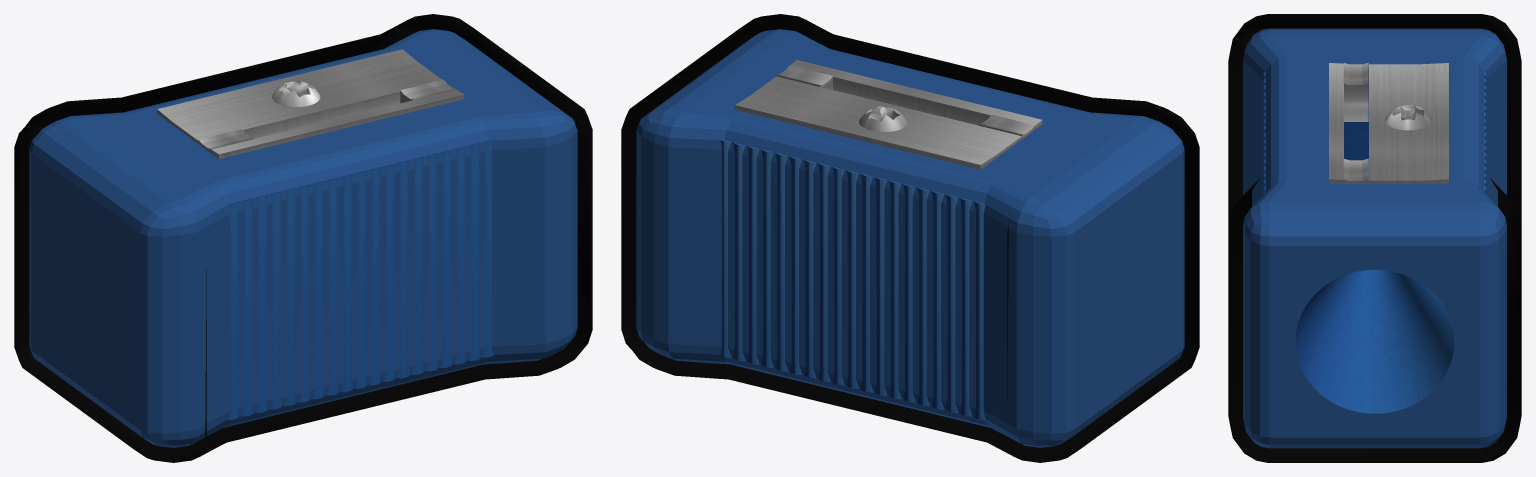
Rendered from sharpner.glb.
3 views of the same model, side by side, from view 1: azimuth 30°, elevation 25°; view 2: azimuth 150°, elevation 25°; view 3: azimuth 270°, elevation 25° (orthographic). The views are drawn at different scales.
Visible parts, largest first — view 1: Roundcube.001, Roundcube.002; view 2: Roundcube.001, Roundcube.002; view 3: Roundcube.001, Roundcube.002.
Boxes of the visible parts, x1=… form: Roundcube.001: x1=29, y1=29, x2=577, y2=447; Roundcube.002: x1=14, y1=14, x2=592, y2=462; Roundcube.001: x1=636, y1=29, x2=1184, y2=447; Roundcube.002: x1=621, y1=14, x2=1199, y2=462; Roundcube.001: x1=1243, y1=28, x2=1506, y2=448; Roundcube.002: x1=1228, y1=14, x2=1521, y2=462.
Bounding box in the file's own units: 0.6086 × 0.3469 × 0.3446.
Materials: 5 (4 with a texture image).
